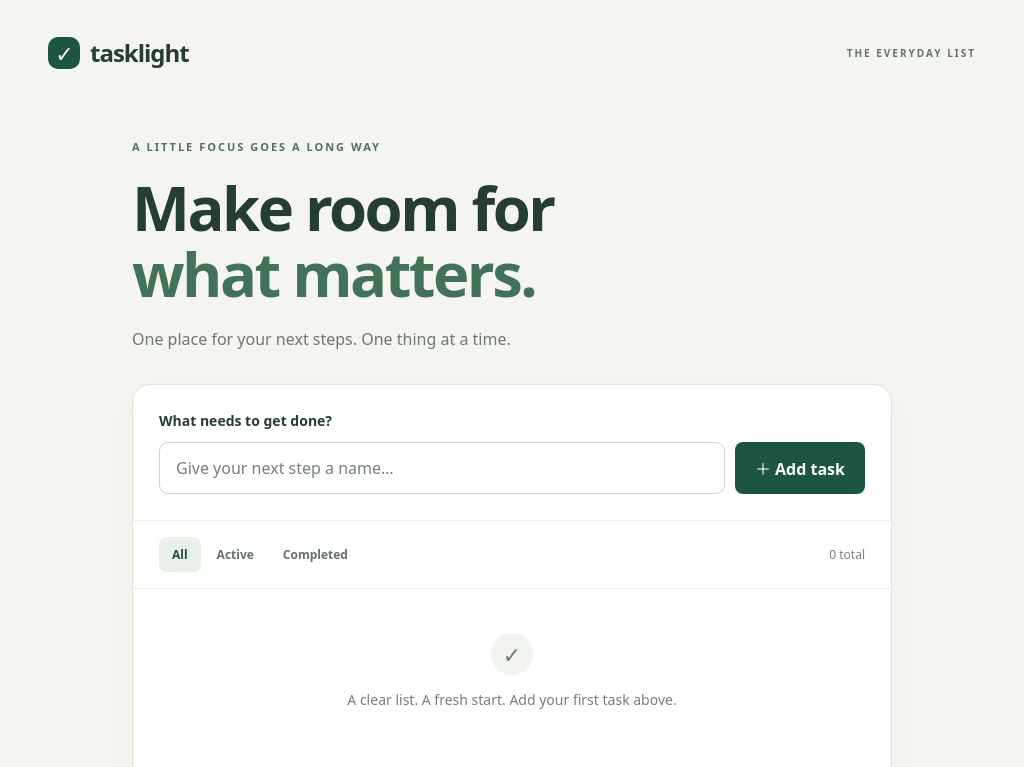
task list › cancels edits without changing the task
The width and height of the screenshot is (1024, 767).
In the field labelled "What needs to get done?": coordinates (442, 468) [159,442,725,494], type "Original title"
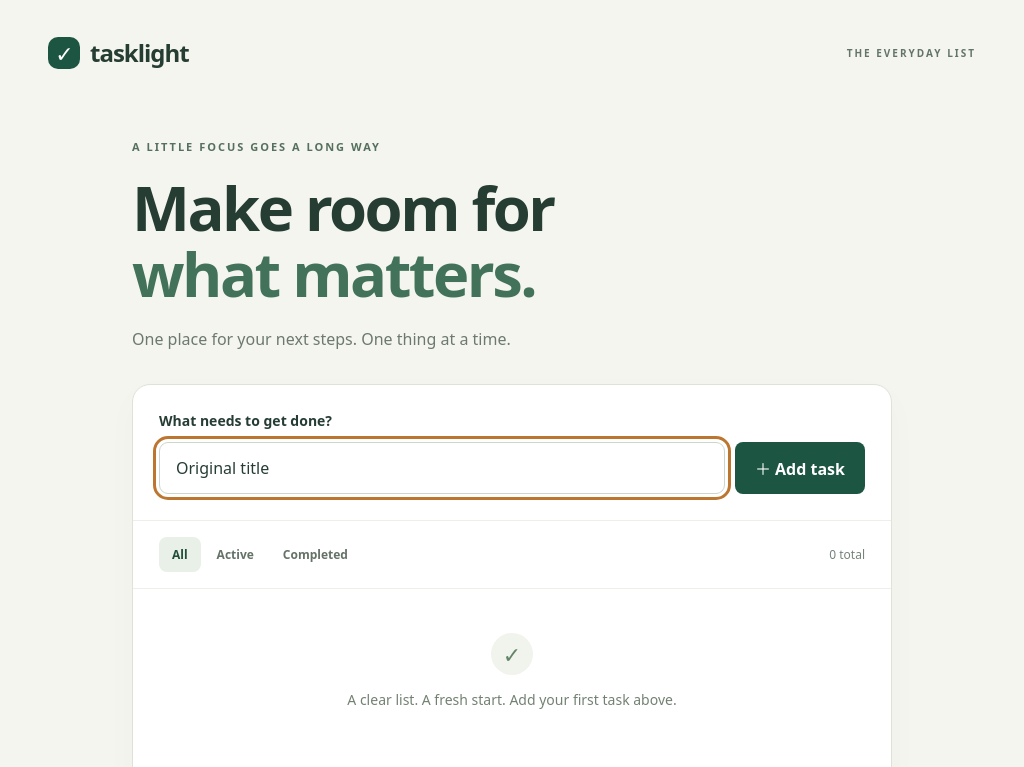
Click the button "＋ Add task": coordinates (800, 468) [735,442,865,494]
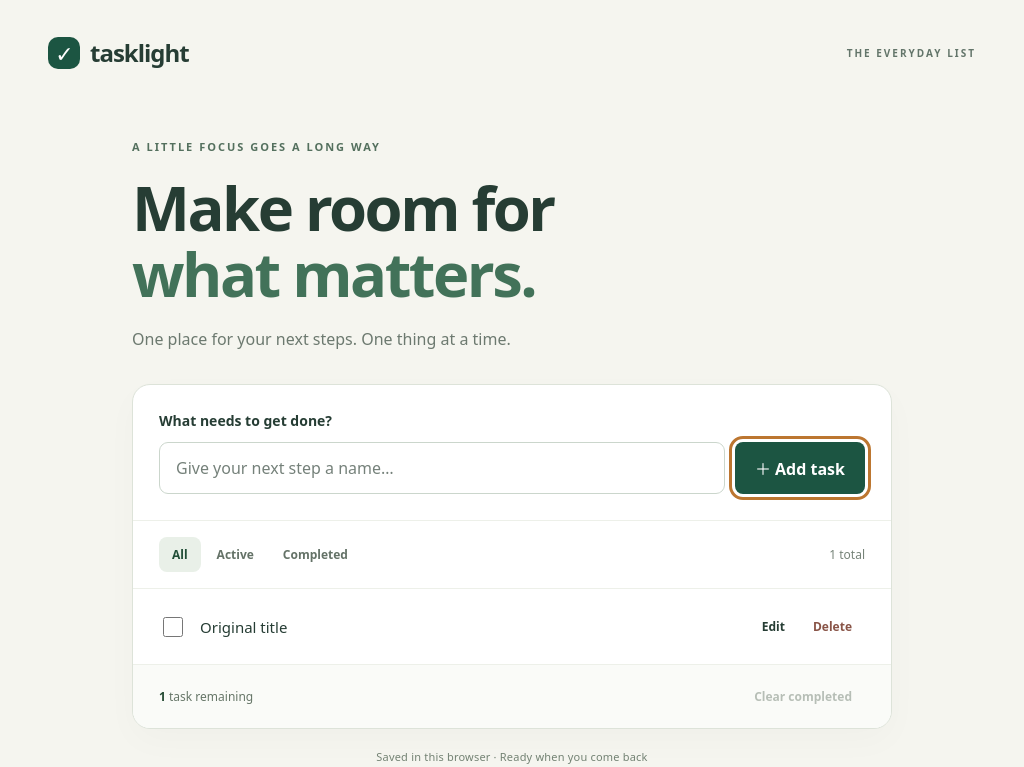
Click the button with aria-label "Edit Original title": coordinates (773, 627) [749,609,798,644]
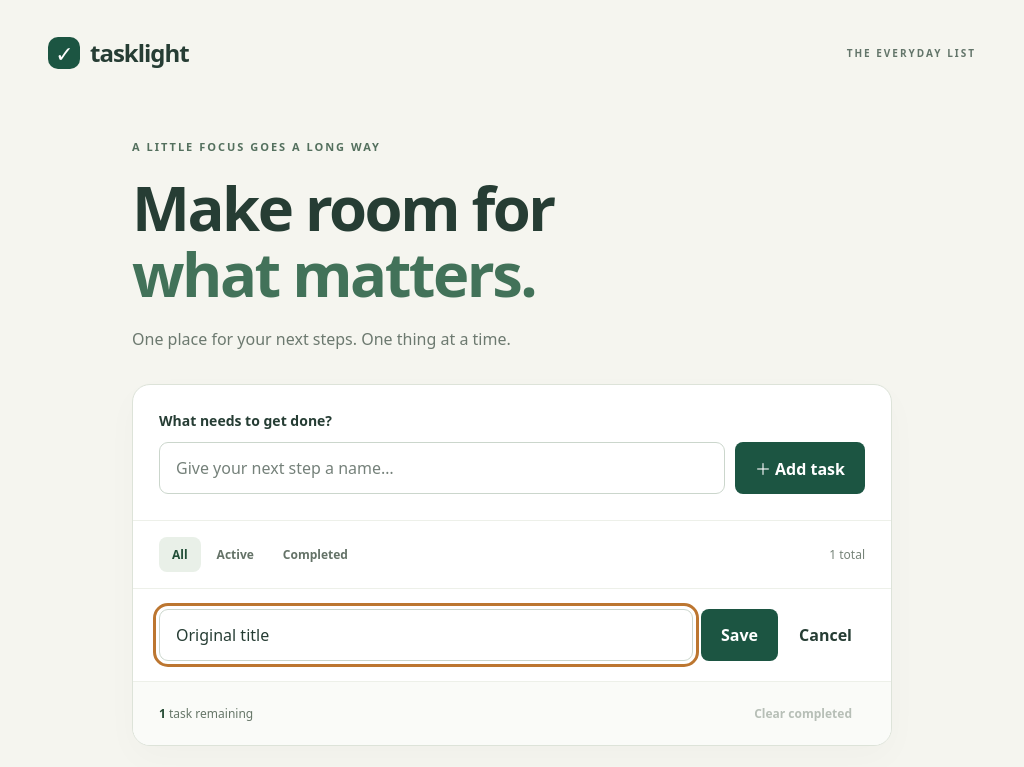
In the field named "Edit task title": coordinates (426, 635) [159,609,693,661], type " changed"
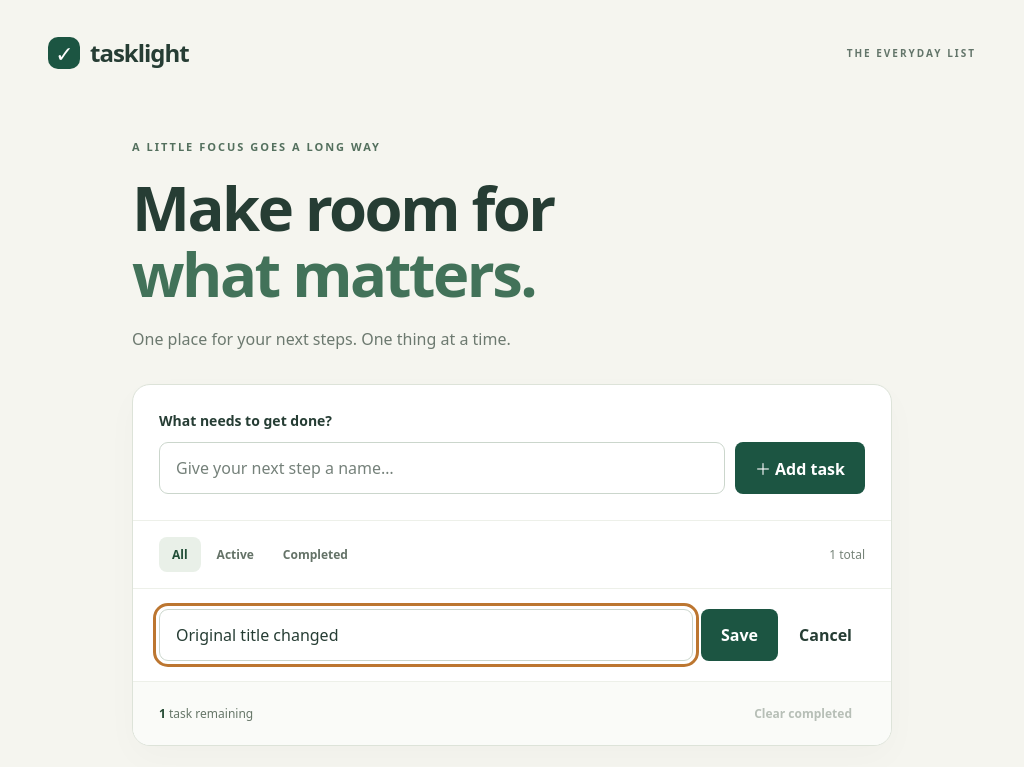
Press Escape
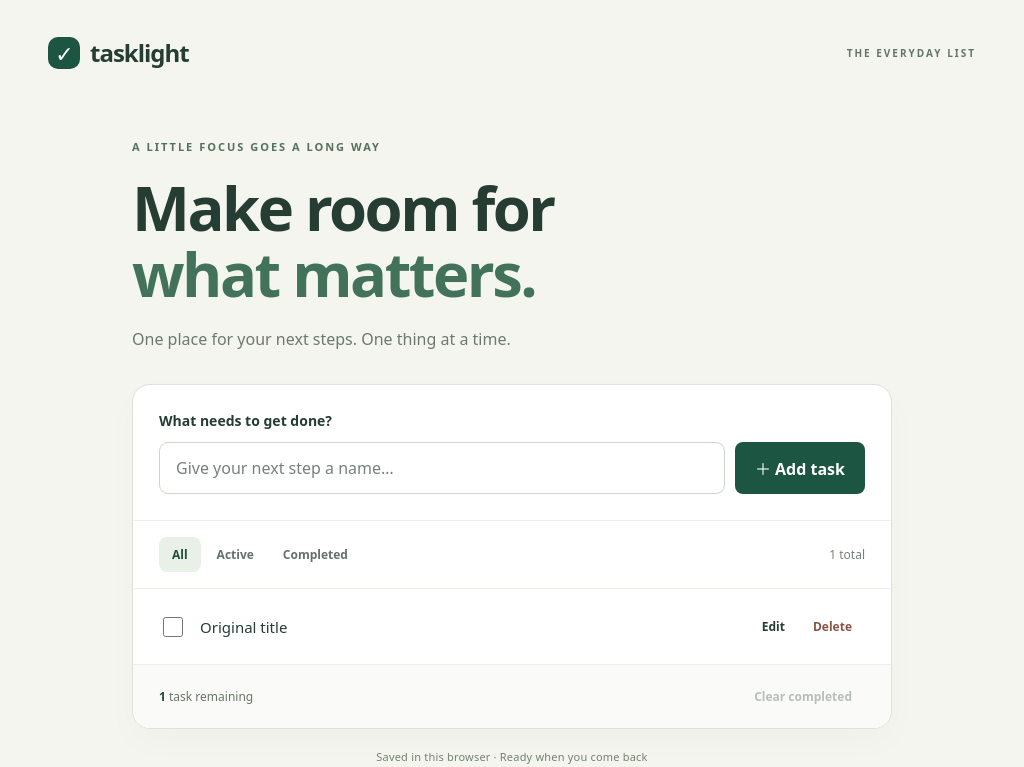
Check: the text "Original title" is shown, box [200,616,287,636]
